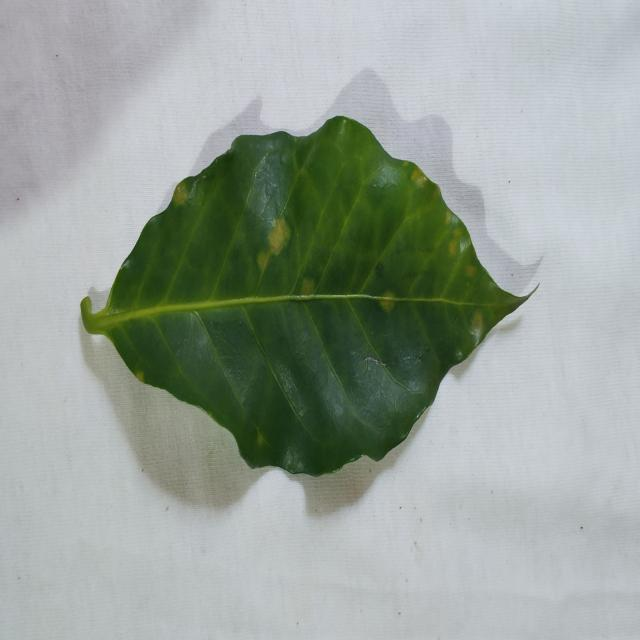Enfermedad-Roya: (79, 116, 532, 481)
